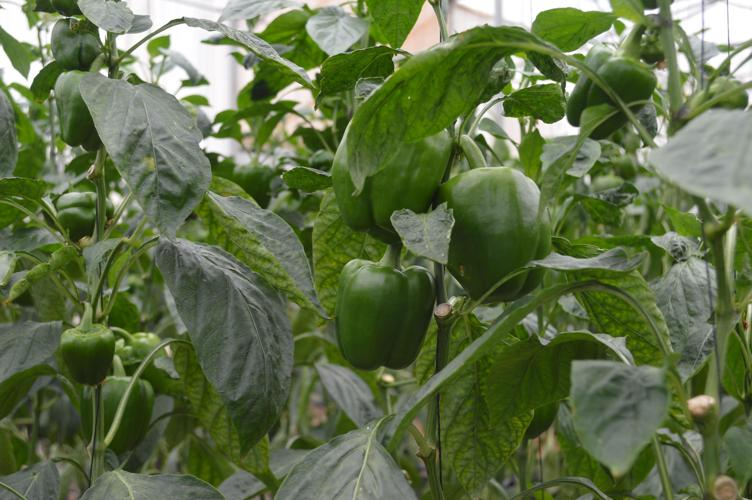BellPepper: (436, 166, 550, 294), (323, 120, 444, 231), (329, 259, 437, 376), (563, 44, 656, 128), (73, 378, 153, 450), (46, 71, 106, 151), (52, 326, 113, 382), (123, 335, 171, 384), (50, 21, 100, 64), (57, 194, 110, 234)
